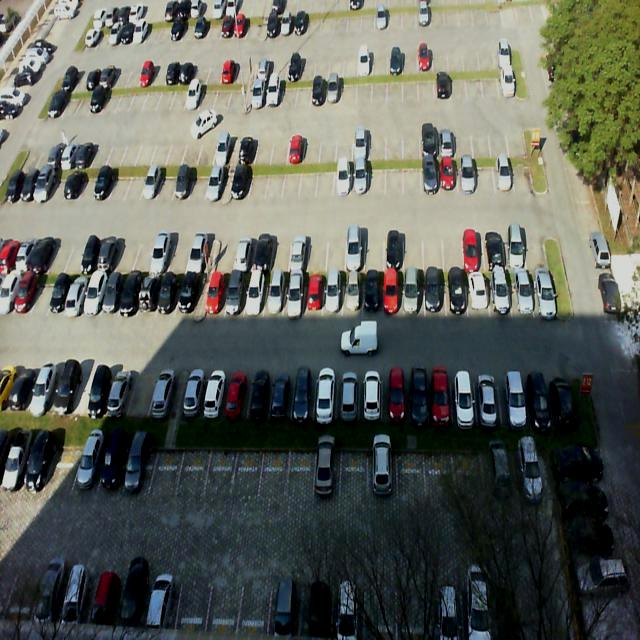space-empty: (43, 445, 79, 499), (148, 444, 182, 500), (231, 451, 264, 505), (175, 445, 209, 495), (204, 448, 238, 498), (259, 448, 291, 500), (64, 367, 93, 421), (288, 449, 314, 504), (127, 370, 153, 420), (443, 226, 466, 273), (130, 236, 156, 276), (113, 238, 140, 276), (525, 229, 549, 271), (167, 238, 193, 276), (188, 164, 211, 206), (425, 229, 445, 276), (155, 165, 177, 207), (511, 156, 534, 196), (404, 226, 424, 272), (213, 239, 235, 275), (268, 236, 290, 272), (307, 234, 327, 273), (324, 235, 344, 273), (364, 235, 383, 273), (478, 158, 496, 198), (299, 166, 317, 205), (283, 164, 300, 205), (250, 166, 268, 204), (368, 162, 386, 200), (267, 166, 283, 207), (403, 163, 421, 197), (388, 162, 404, 200), (316, 166, 332, 200)
space-occupied: (94, 445, 132, 502), (123, 442, 157, 502), (71, 446, 106, 501), (545, 370, 576, 426), (312, 451, 342, 507), (223, 370, 254, 424), (21, 446, 55, 494), (499, 373, 527, 431), (476, 372, 502, 429), (523, 371, 549, 428), (222, 272, 249, 326), (117, 271, 145, 323), (83, 371, 112, 421), (136, 267, 162, 321), (428, 375, 454, 429), (452, 374, 479, 426), (106, 371, 134, 421), (268, 373, 294, 425), (312, 372, 336, 428), (154, 274, 180, 324), (203, 370, 229, 420), (246, 372, 272, 422), (262, 270, 286, 324), (530, 270, 557, 318), (148, 374, 175, 422), (359, 371, 382, 426), (174, 272, 198, 324), (405, 374, 429, 426), (101, 270, 125, 320), (241, 275, 265, 325), (335, 373, 359, 423), (290, 372, 313, 424), (382, 371, 405, 423), (486, 273, 511, 320), (483, 227, 507, 275), (181, 373, 206, 419), (205, 273, 225, 327), (505, 227, 527, 273), (303, 276, 324, 324), (467, 275, 488, 322), (148, 237, 172, 278), (509, 276, 531, 320), (322, 277, 343, 323), (444, 277, 467, 319), (282, 276, 302, 324), (188, 239, 212, 278), (172, 165, 194, 207), (139, 165, 162, 205), (363, 276, 383, 322), (404, 274, 424, 320), (426, 276, 446, 322), (382, 231, 404, 272), (204, 166, 226, 206), (287, 234, 309, 274), (464, 228, 484, 272), (231, 164, 252, 205), (229, 238, 251, 277), (251, 235, 273, 273), (345, 231, 364, 275), (384, 276, 402, 322), (345, 275, 362, 321), (458, 162, 478, 198), (494, 160, 514, 194), (333, 165, 350, 201), (422, 163, 440, 197), (440, 162, 458, 195), (351, 164, 367, 198)
